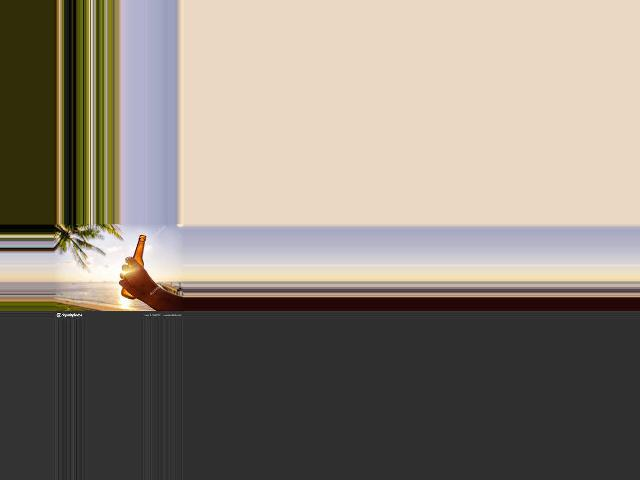beer: (121, 235, 146, 299)
